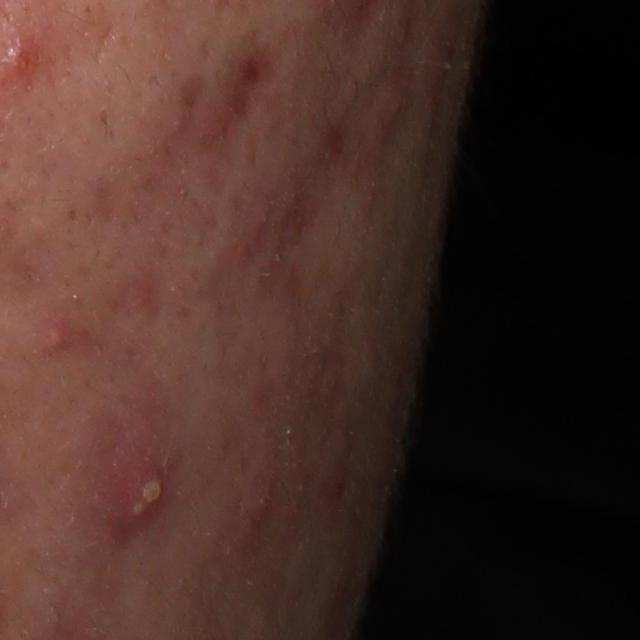atrophic_scar: (203, 31, 292, 190), (278, 104, 353, 278)
papule: (247, 481, 276, 533), (43, 320, 71, 354)
pustule: (105, 448, 172, 538)
